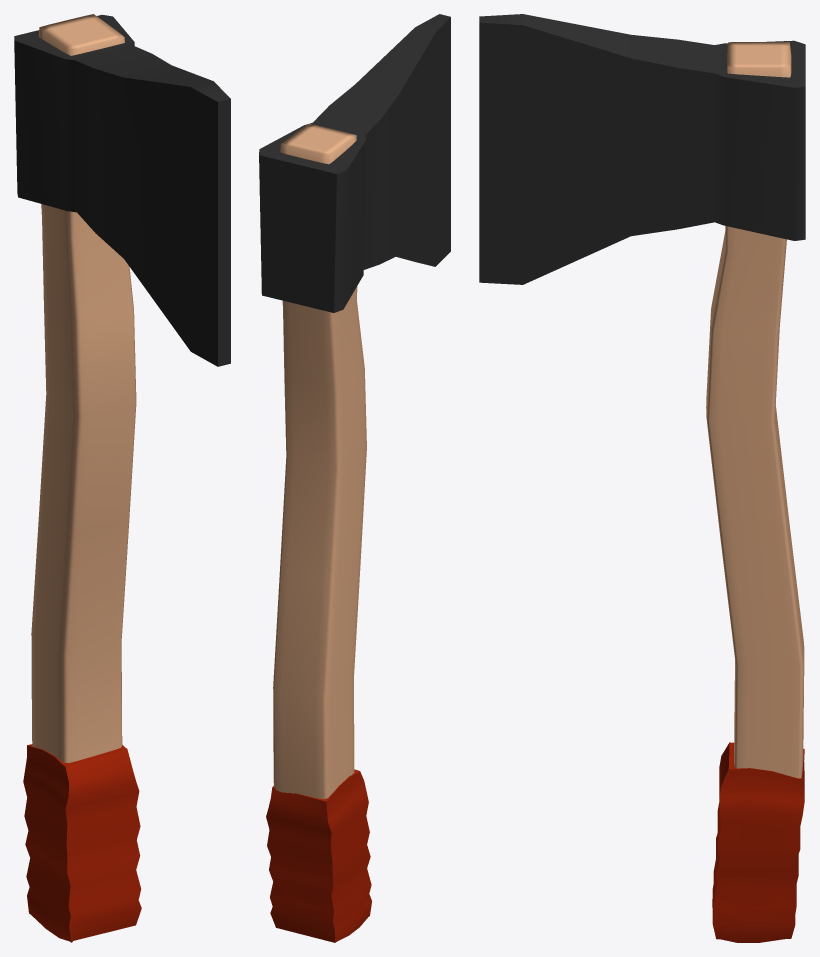
The model's file is Axe_type1 1.fbx.
3 renders of one model, left to right at view 1: azimuth 30°, elevation 25°; view 2: azimuth 150°, elevation 25°; view 3: azimuth 270°, elevation 25°, orthographic. The views are drawn at different scales.
Visible parts, largest first — view 1: pCube4; view 2: pCube4; view 3: pCube4.
Boxes of the visible parts, x1,y1,x2,y2 form: pCube4: (14,14,230,942); pCube4: (259,14,450,942); pCube4: (479,14,805,942).
Size of the model in its own units: 1.61 by 14.46 by 4.71.
